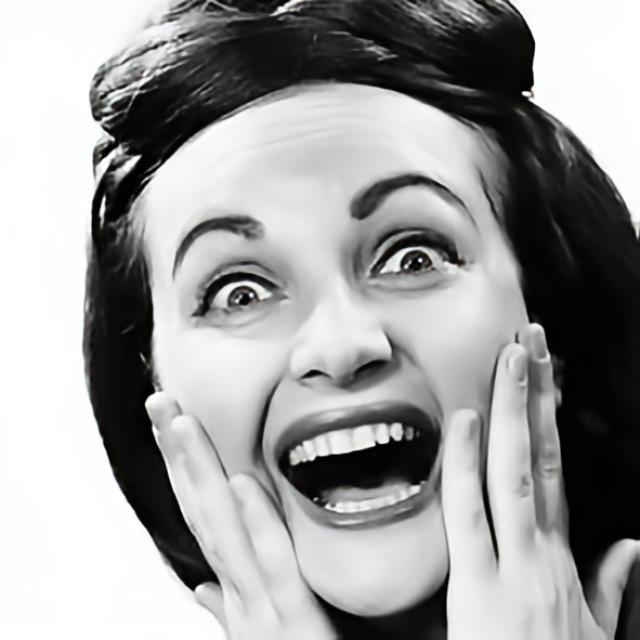surprise: (145, 80, 534, 622)
